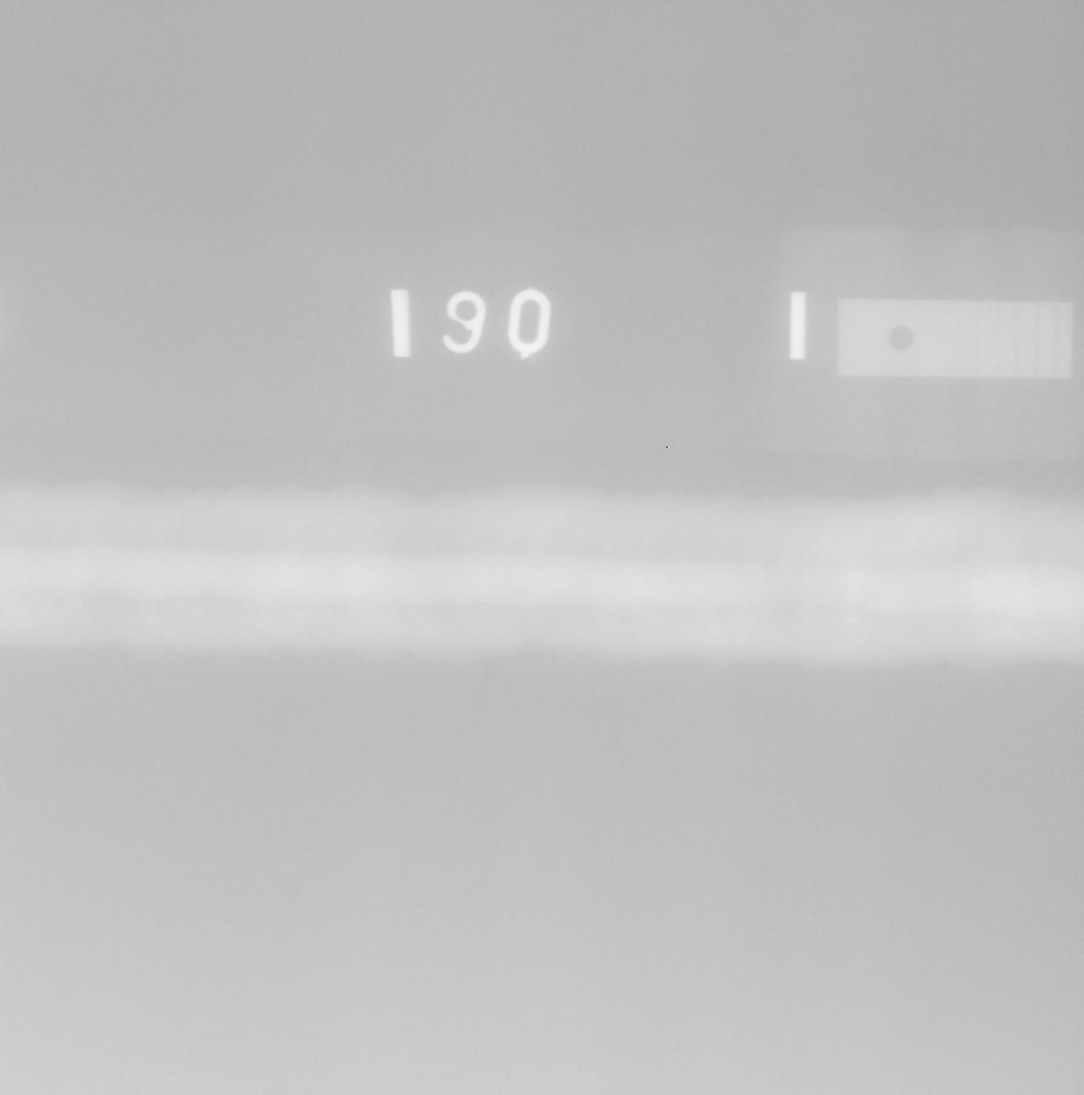Pore/Porosity: (533, 563, 541, 570), (578, 575, 582, 579), (891, 570, 895, 574)
Reference Standard 1: (838, 299, 1073, 378)
